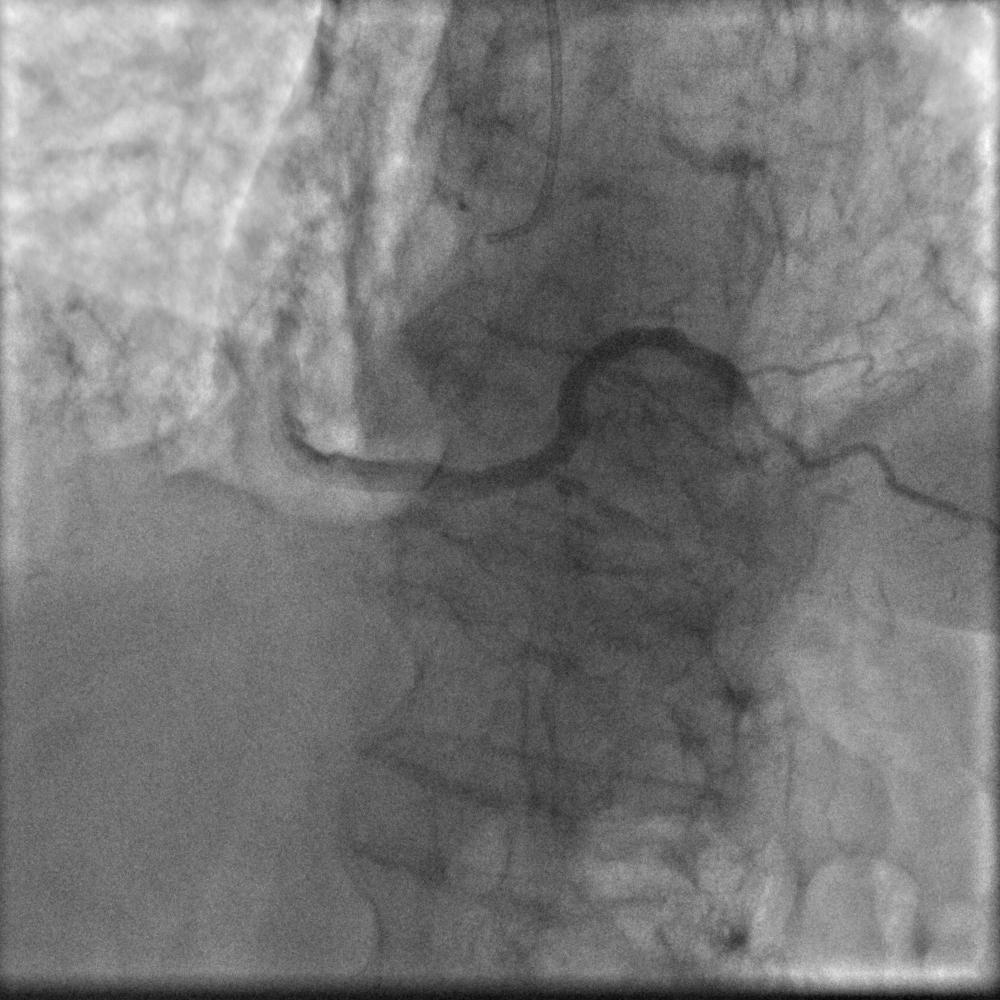Stenosis: (729, 358, 772, 436)
